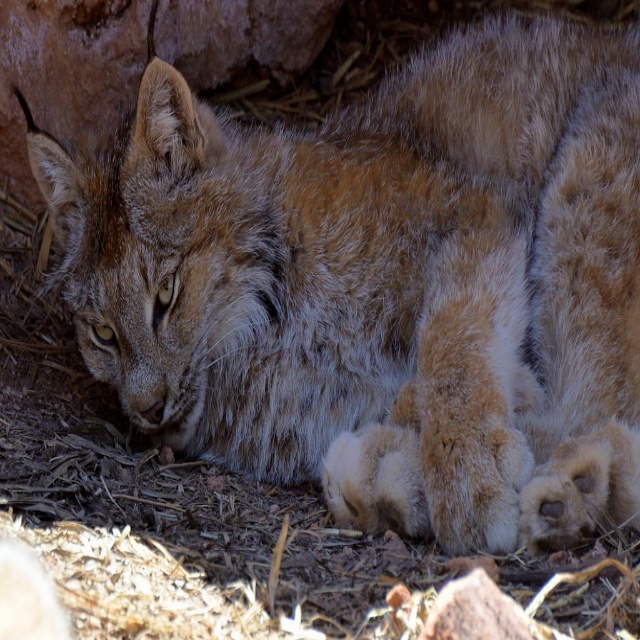Lynx: (6, 0, 640, 565)
